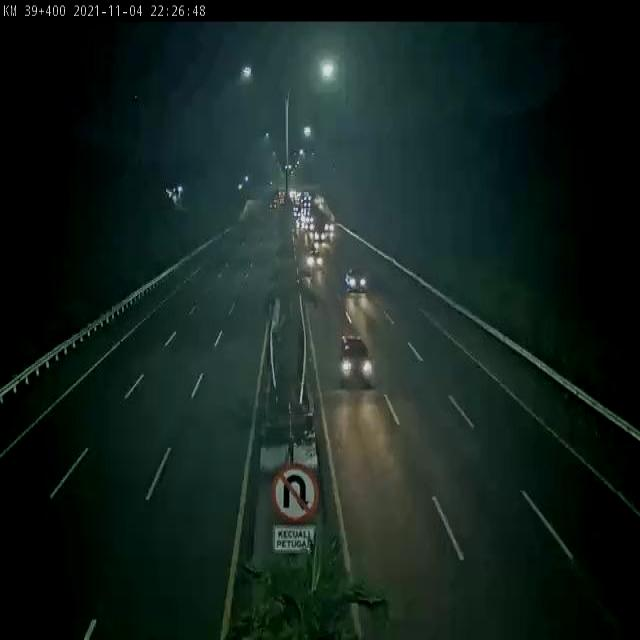Car: (338, 335, 373, 389), (343, 268, 369, 294), (306, 249, 324, 271), (313, 228, 326, 242)
